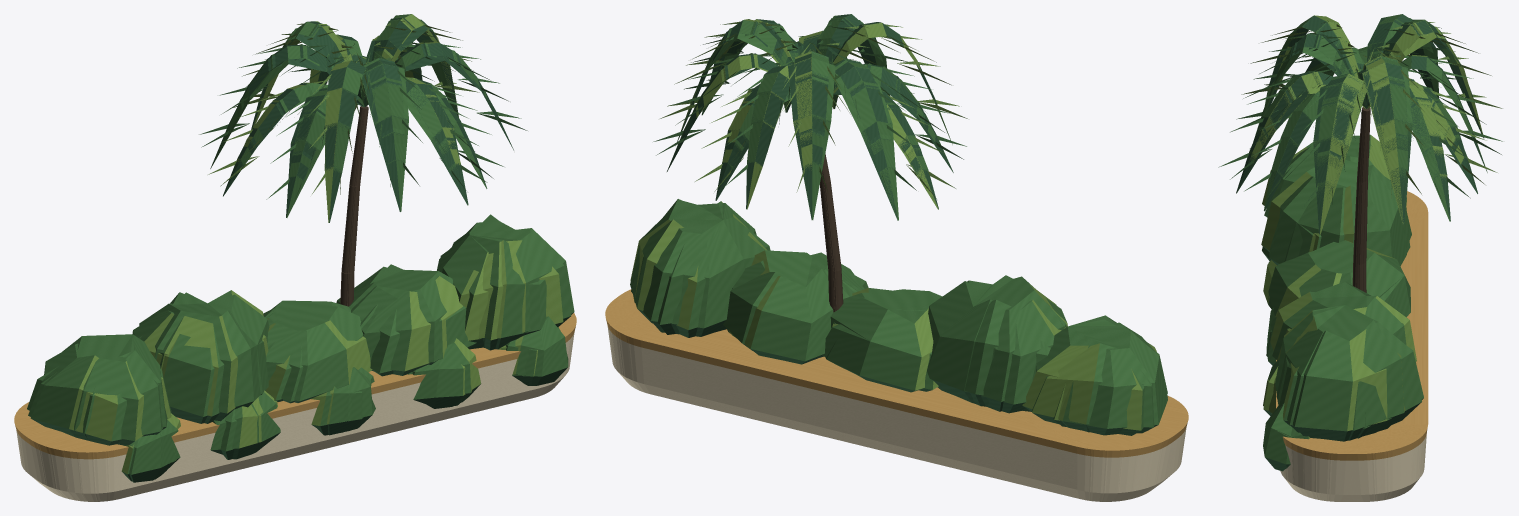
File: TerracePlanter.fbx
3 views of the same model, side by side, from view 1: azimuth 30°, elevation 25°; view 2: azimuth 150°, elevation 25°; view 3: azimuth 270°, elevation 25° (orthographic). The views are drawn at different scales.
Parts seen in each view (by area): view 1: TerracePlanter Close, TerracePlanter Street, TerracePlanter Horizon; view 2: TerracePlanter Close, TerracePlanter Street, TerracePlanter Horizon; view 3: TerracePlanter Close, TerracePlanter Street, TerracePlanter Horizon.
Boxes of the visible parts, <box> form: TerracePlanter Close: <box>14,14,576,501</box>; TerracePlanter Street: <box>14,17,576,501</box>; TerracePlanter Horizon: <box>14,15,575,452</box>; TerracePlanter Close: <box>605,14,1188,501</box>; TerracePlanter Street: <box>605,17,1188,501</box>; TerracePlanter Horizon: <box>606,15,1188,450</box>; TerracePlanter Close: <box>1218,14,1502,501</box>; TerracePlanter Street: <box>1255,18,1462,501</box>; TerracePlanter Horizon: <box>1237,17,1483,453</box>.
Bounding box in the file's own units: 770 × 503 × 344.
